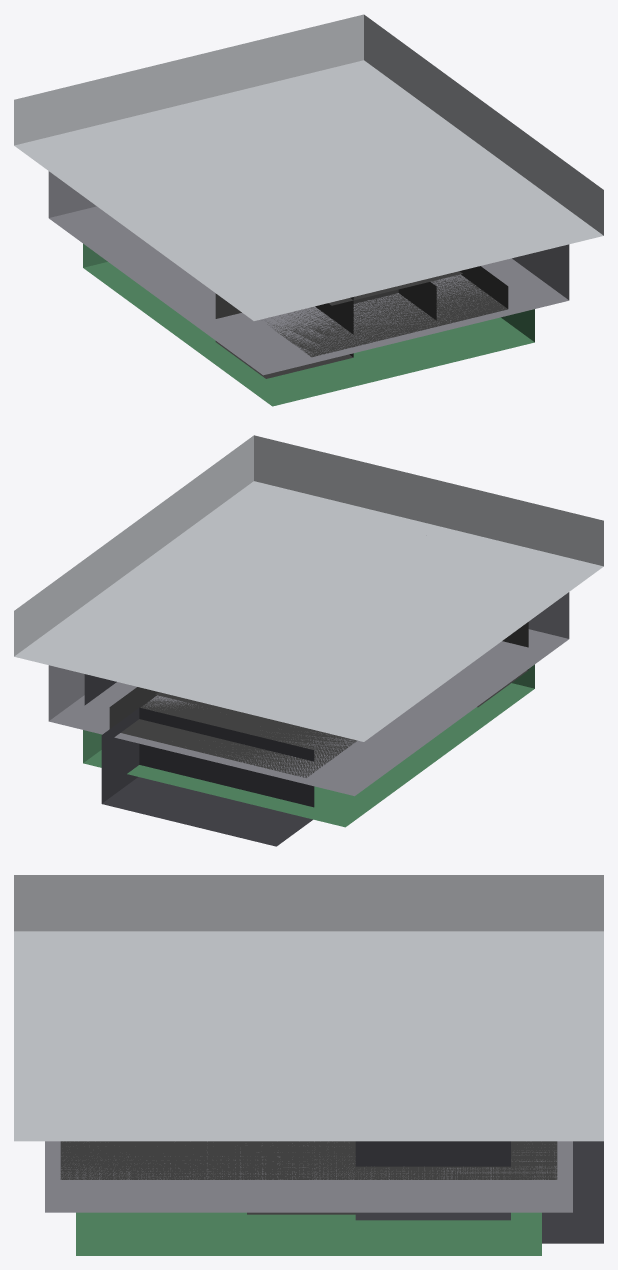
File: flash_storage.gltf
The picture shows the model from 3 angles, top to bottom: view 1: azimuth 30°, elevation 25°; view 2: azimuth 150°, elevation 25°; view 3: azimuth 270°, elevation 25°; orthographic projection. The views are drawn at different scales.
Visible parts, largest first — view 1: flash_storage; view 2: flash_storage; view 3: flash_storage.
Part boxes in pixels (left/top/right/bottom): flash_storage: left=14, top=14, right=603, bottom=406; flash_storage: left=14, top=435, right=603, bottom=846; flash_storage: left=14, top=875, right=603, bottom=1255.
Bounding box in the file's own units: 0.016 × 0.0075 × 0.019.
